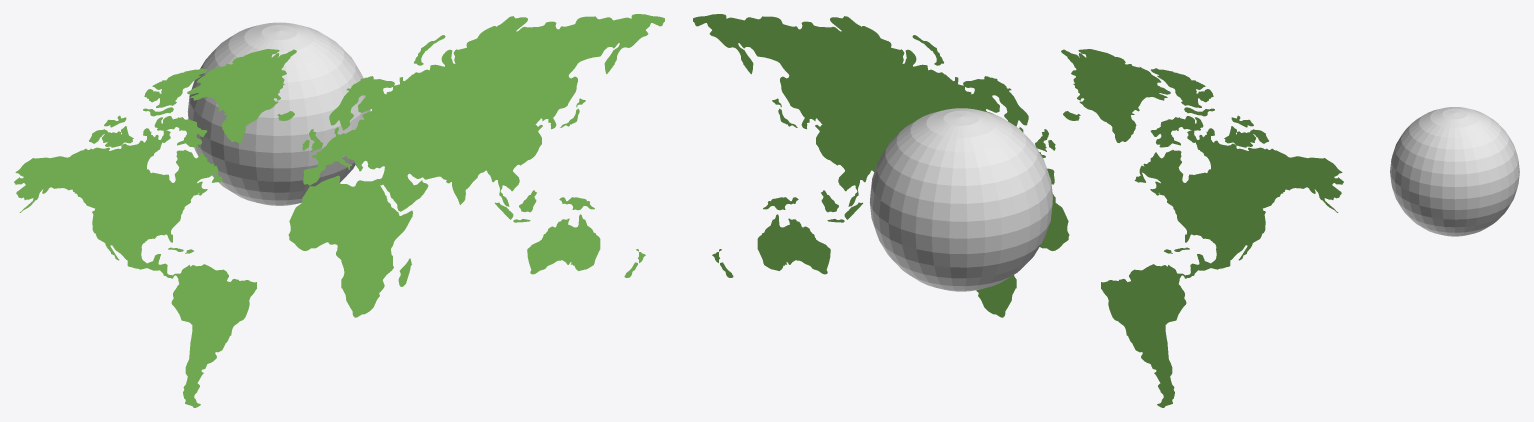
Rendered from globl1.glb.
3 views of the same model, side by side, from view 1: azimuth 30°, elevation 25°; view 2: azimuth 150°, elevation 25°; view 3: azimuth 270°, elevation 25° (orthographic). The views are drawn at different scales.
Parts seen in each view (by area): view 1: map, Sphere wire; view 2: map, Sphere wire; view 3: Sphere wire.
Boxes of the visible parts, <box> form: map: <box>14,14,664,407</box>; Sphere wire: <box>187,22,370,205</box>; map: <box>693,14,1343,407</box>; Sphere wire: <box>869,108,1052,291</box>; Sphere wire: <box>1390,107,1519,236</box>.
Size of the model in its own units: 8.27 by 4.14 by 2.3.
